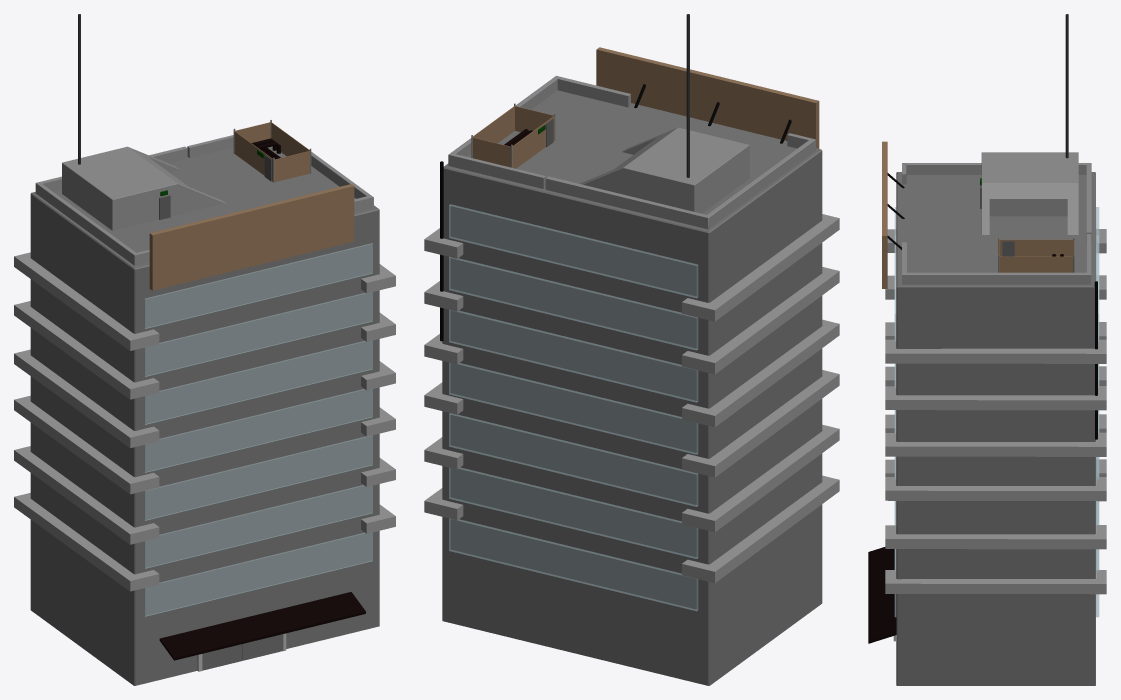
File: AngleBuilding01.fbx
3 views of the same model, side by side, from view 1: azimuth 30°, elevation 25°; view 2: azimuth 150°, elevation 25°; view 3: azimuth 270°, elevation 25° (orthographic). The views are drawn at different scales.
Visible parts, largest first — view 1: AngleBuilding_01; view 2: AngleBuilding_01; view 3: AngleBuilding_01.
Part boxes in pixels (x1=…): AngleBuilding_01: x1=14, y1=14, x2=395, y2=685; AngleBuilding_01: x1=424, y1=14, x2=839, y2=685; AngleBuilding_01: x1=868, y1=14, x2=1106, y2=685.
Size of the model in its own units: 875 by 1870 by 705.
